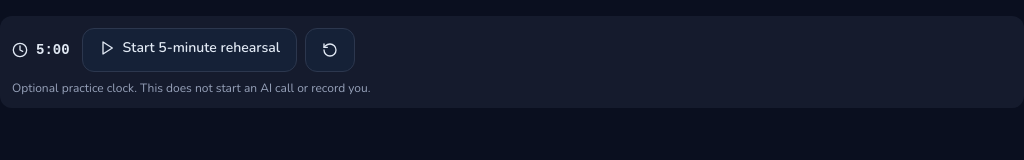
Test: Optional MMI rehearsal clock › pauses, resumes and expires using elapsed time, including a suspended tab
The image size is (1024, 160).
Click the button "Start 5-minute rehearsal".
click(189, 50)  # box [82, 28, 297, 72]
Wait 20000 ms
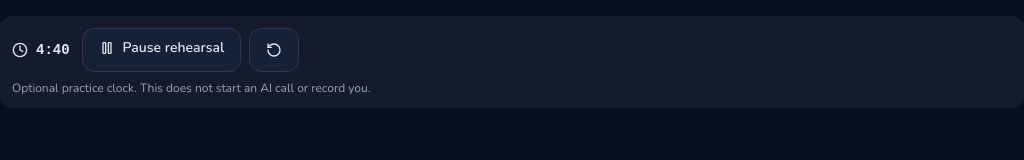
Check: the element showing "4:40" is shown, box [12, 40, 70, 60]
Click the button "Pause rehearsal".
click(161, 50)  # box [82, 28, 241, 72]
Wait 30000 ms
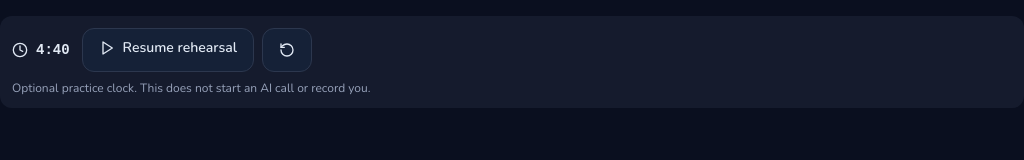
Check: the element showing "4:40" is shown, box [12, 40, 70, 60]
Click the button "Resume rehearsal".
click(168, 50)  # box [82, 28, 254, 72]
Wait 500 ms
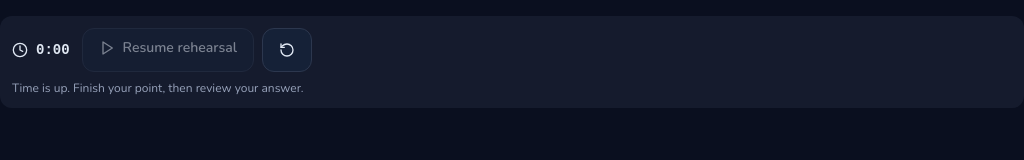
Check: the element showing "0:00" is shown, box [12, 40, 70, 60]
Check: the text "Time is up" is shown, box [12, 80, 304, 96]
Check: the button "Resume rehearsal" is disabled, box [82, 28, 254, 72]
Click the button named "Reset rehearsal timer".
click(287, 50)  # box [262, 28, 312, 72]
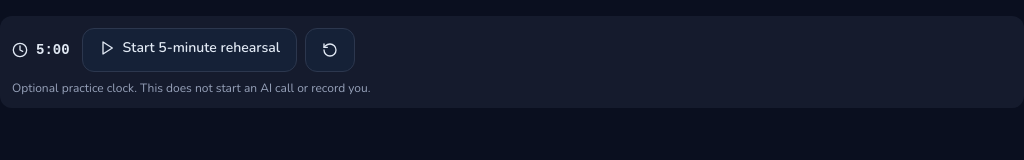
Check: the element showing "5:00" is shown, box [12, 40, 70, 60]
Check: the button "Start 5-minute rehearsal" is enabled, box [82, 28, 297, 72]
